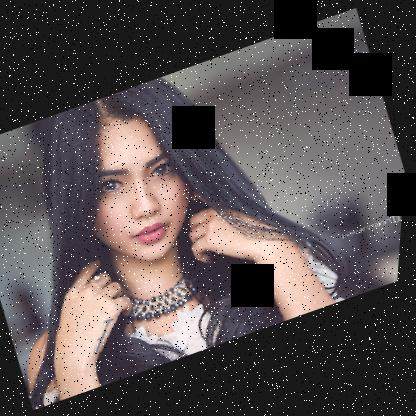Female: (55, 94, 220, 277)
